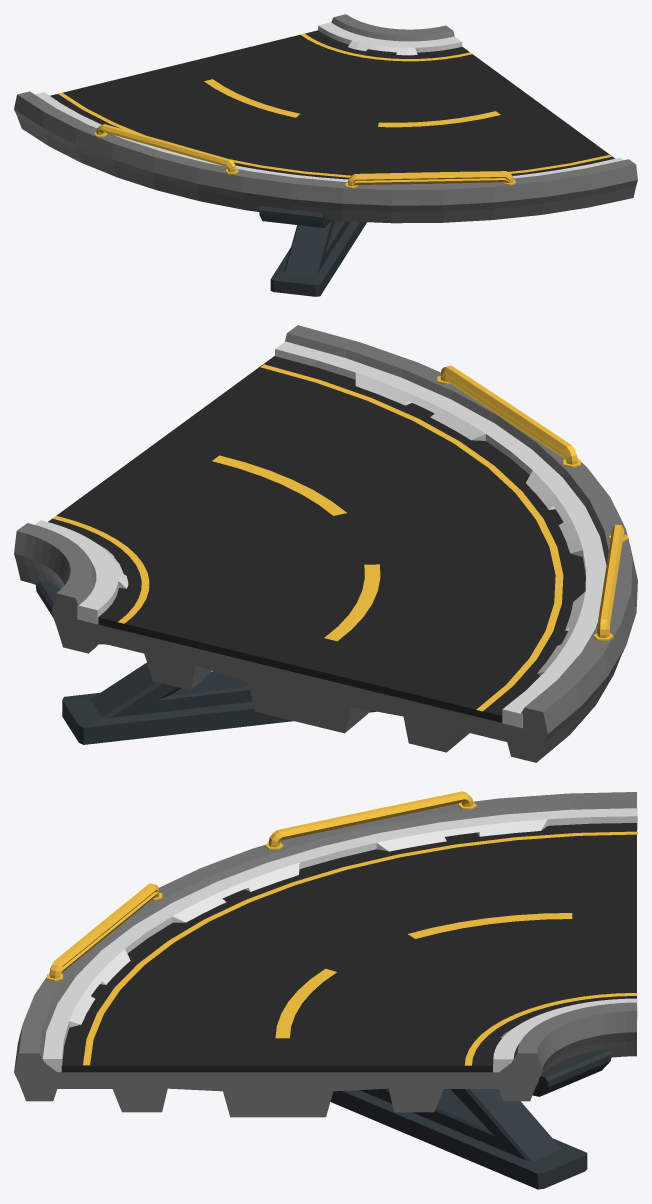
File: road_L.glb
The picture shows the model from 3 angles, top to bottom: view 1: azimuth 30°, elevation 25°; view 2: azimuth 150°, elevation 25°; view 3: azimuth 270°, elevation 25°; orthographic projection. The views are drawn at different scales.
Visible parts, largest first — view 1: zhuanwan, 立方体.001, 立方体.006, 柱体.003, 立方体.002, 平面.008, 平面.007; view 2: zhuanwan, 立方体.001, 立方体.002, 立方体.006, 平面.008, 柱体.003, 平面.007; view 3: zhuanwan, 立方体.001, 立方体.002, 立方体.006, 柱体.003, 平面.008, 平面.007.
Boxes of the visible parts, x1,y1,x2,y2 form: zhuanwan: [50, 30, 614, 179]; 立方体.001: [14, 14, 637, 223]; 立方体.006: [259, 205, 366, 296]; 柱体.003: [93, 124, 515, 188]; 立方体.002: [35, 22, 622, 181]; 平面.008: [58, 33, 611, 177]; 平面.007: [204, 79, 500, 127]; zhuanwan: [48, 356, 585, 722]; 立方体.001: [14, 325, 637, 762]; 立方体.002: [34, 341, 606, 728]; 立方体.006: [36, 580, 376, 744]; 平面.008: [53, 364, 563, 711]; 柱体.003: [437, 365, 628, 640]; 平面.007: [212, 455, 380, 641]; zhuanwan: [61, 823, 636, 1072]; 立方体.001: [14, 792, 636, 1117]; 立方体.002: [42, 807, 637, 1072]; 立方体.006: [330, 1049, 611, 1189]; 柱体.003: [46, 791, 476, 981]; 平面.008: [83, 831, 637, 1065]; 平面.007: [275, 913, 572, 1038].
Size of the model in its own units: 8.67 by 2.65 by 8.68.
